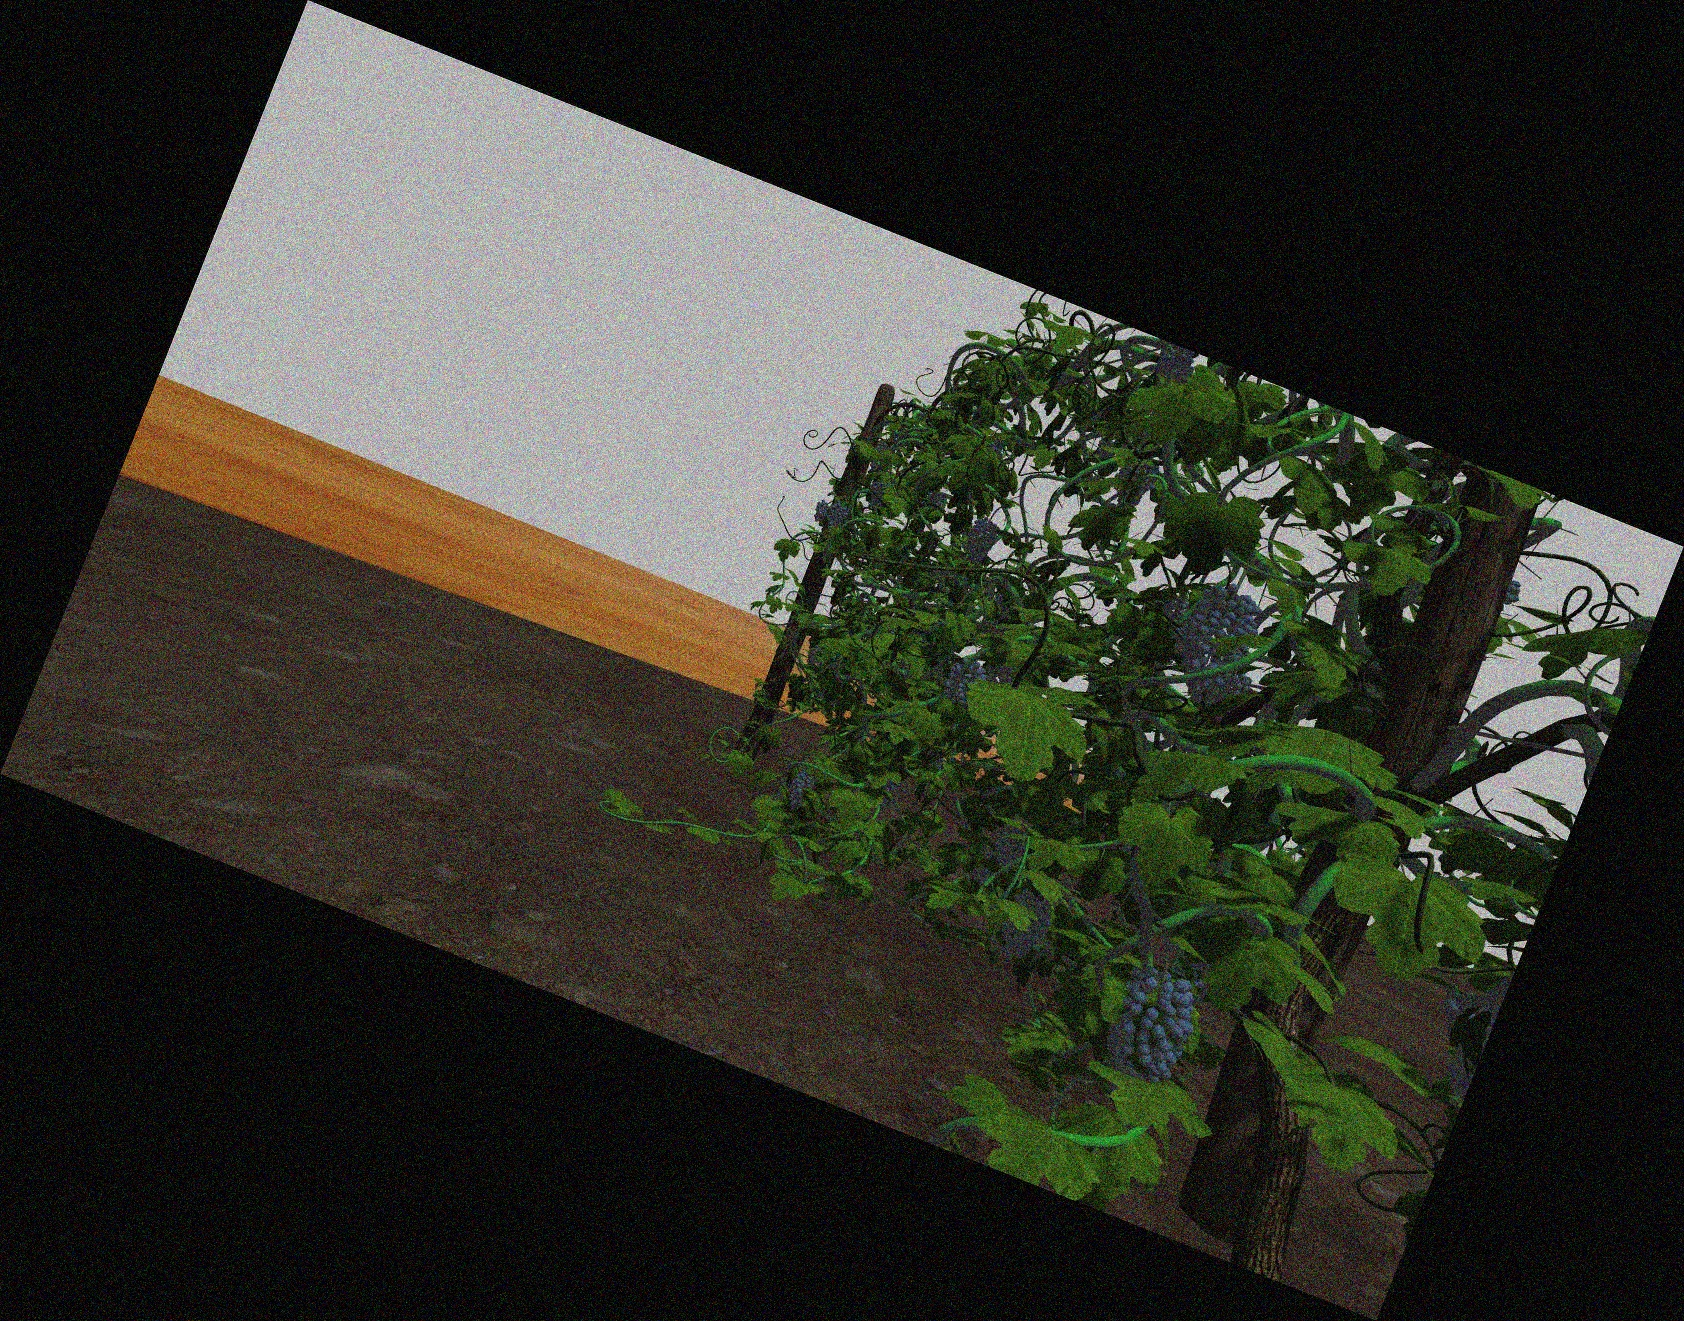grape: (1114, 974, 1192, 1084), (1182, 587, 1253, 700), (1002, 892, 1047, 963), (945, 656, 981, 710), (995, 826, 1025, 870), (966, 518, 996, 561), (787, 773, 815, 812), (1159, 353, 1193, 382), (826, 502, 847, 529), (813, 498, 828, 524)
